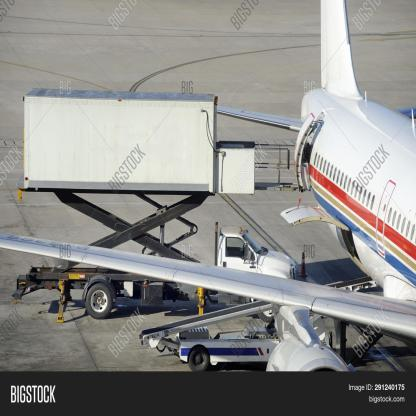Catering truck: (17, 77, 298, 316)
